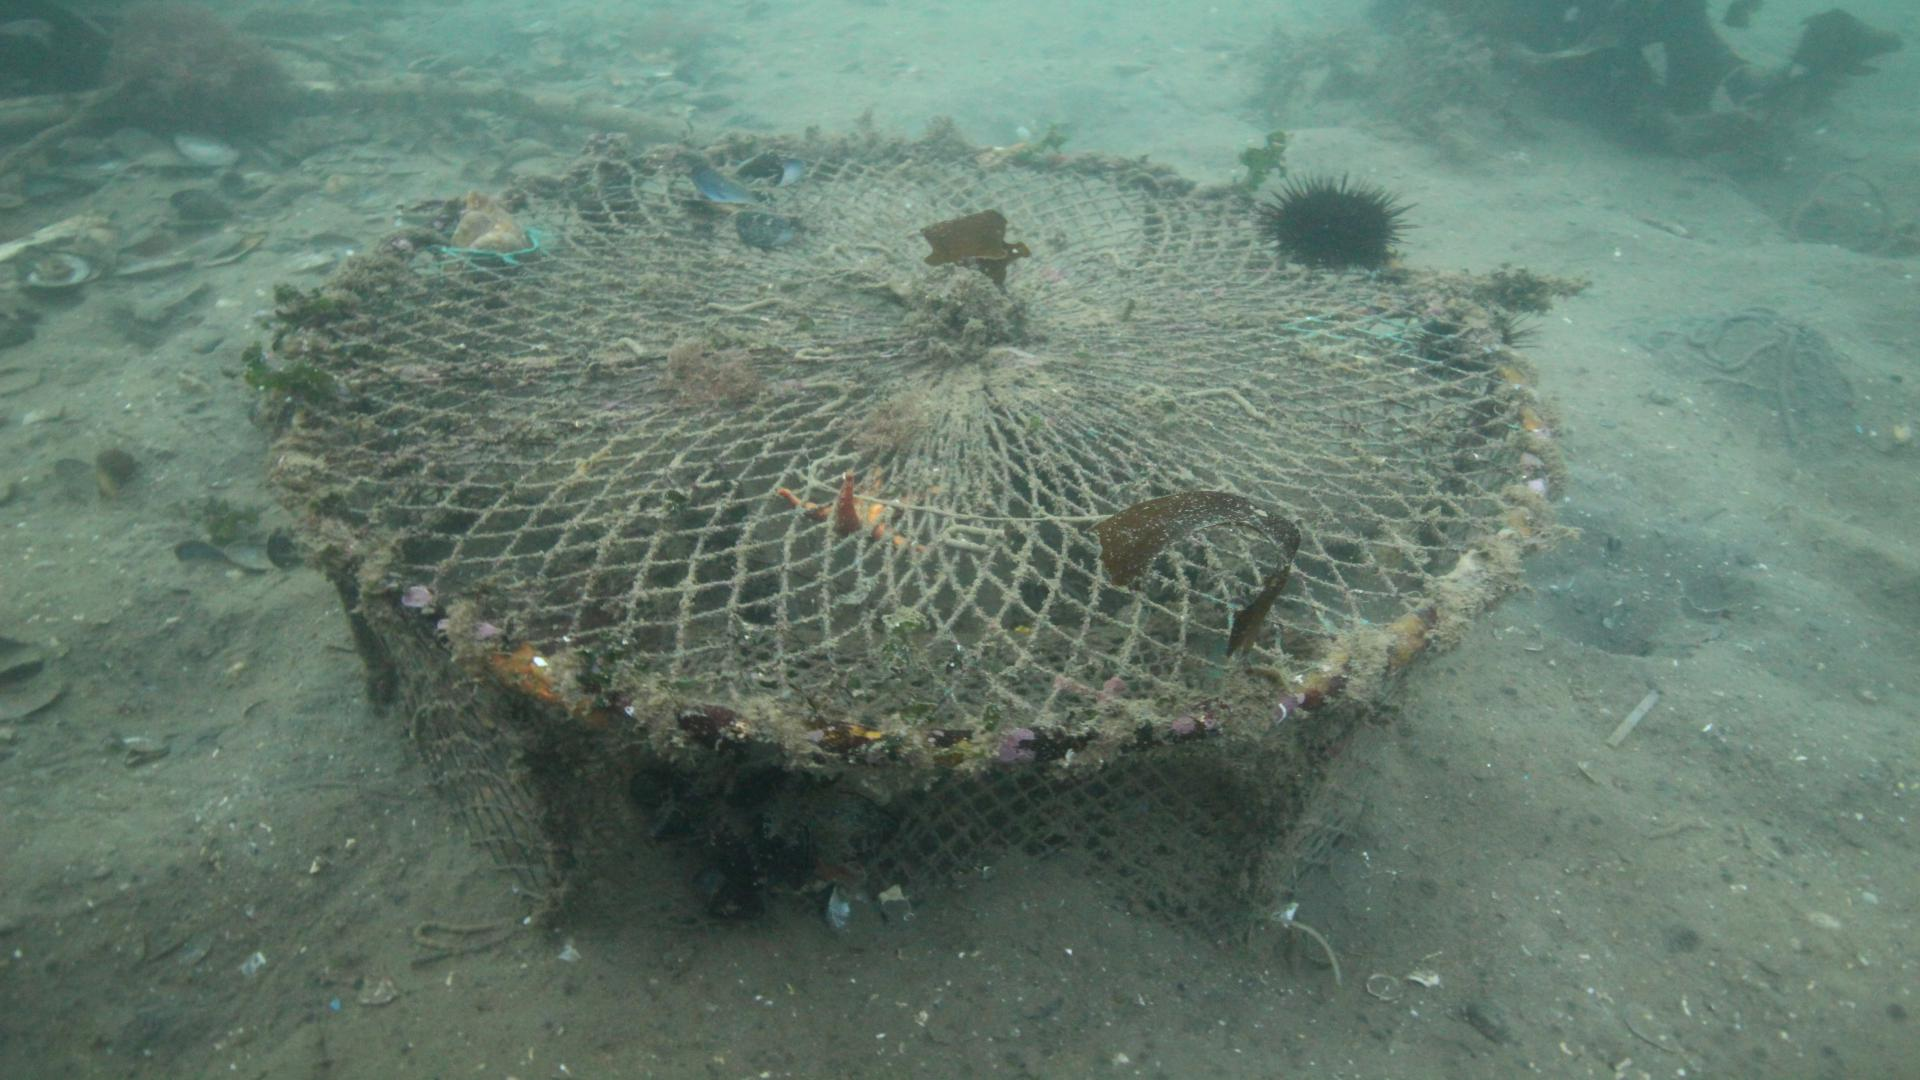circular fish trap: (255, 131, 1561, 951)
